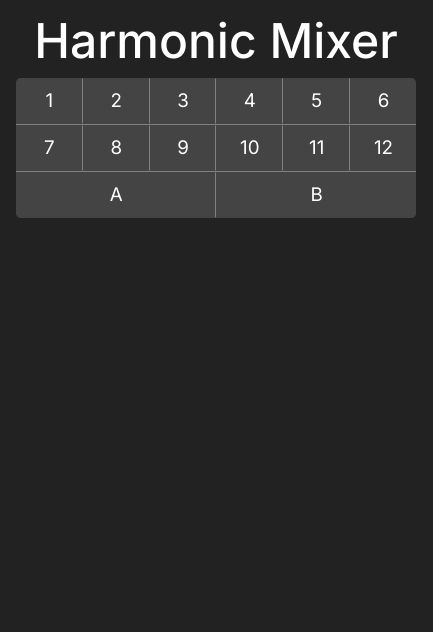
Test: Harmonic mixer › picking 1A will show the results for camelot key 1A
Click the button "1" at (49, 101), box [16,78,83,124]
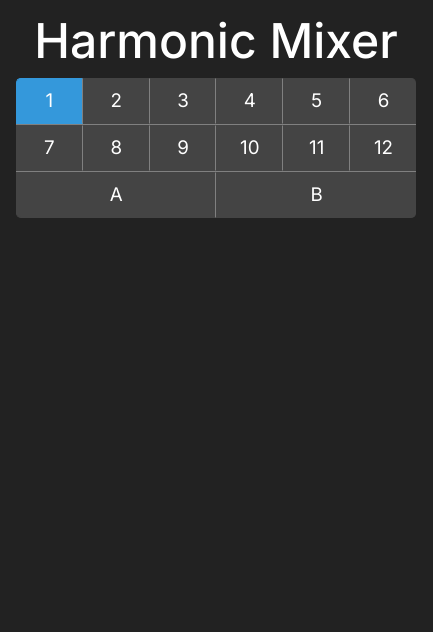
Click the button "A" at (116, 195), box [16,172,216,218]
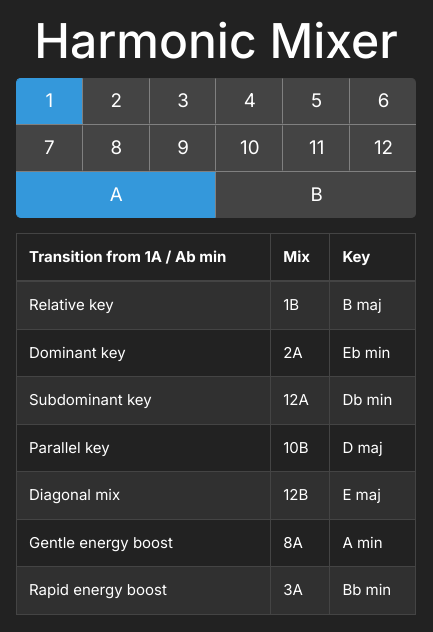
Expected: the number of rows with class "result" is 7, [16,282,416,330]
Expected: the cell with class "mix-type" reads "1B", [283,296,299,314]
Expected: the cell with class "mix-notation" reads "B maj", [342,296,382,314]
